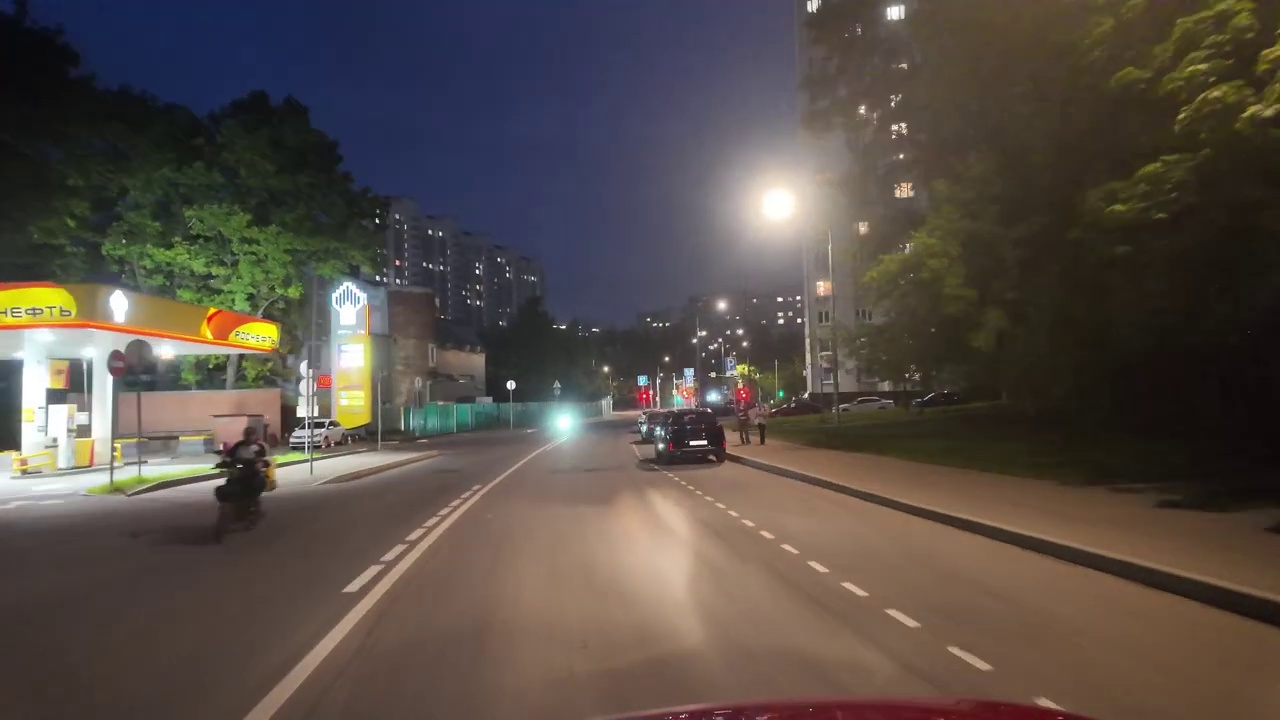acesa: (752, 181, 802, 230), (814, 277, 834, 299), (710, 297, 732, 316)
